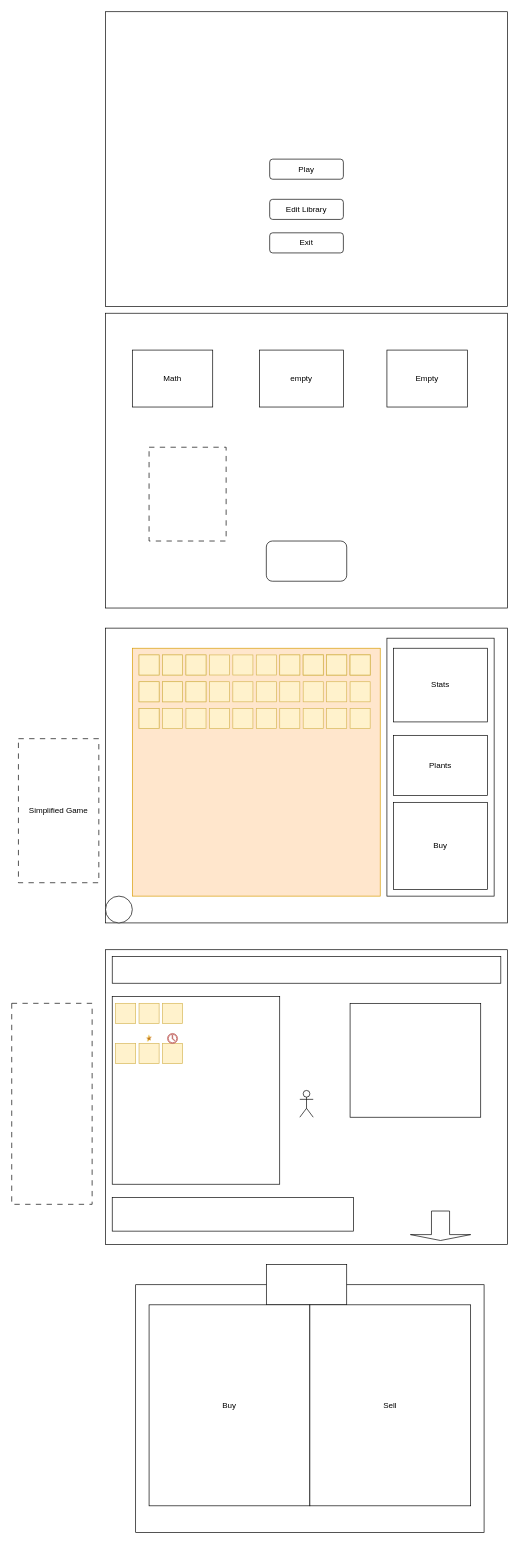
Some shapes in this 519 by 1544 pixel diagram are drawn without their labels. The box of each missing label's shape, as (x1, y1, x2, y2) in pixels:
Monies: (266, 1264, 347, 1305)
Player: (299, 1090, 313, 1117)
Select Library and Continue: (148, 447, 226, 541)
Shop: (410, 1210, 471, 1241)
Start: (266, 540, 347, 581)
What we are making: (11, 1003, 92, 1204)
